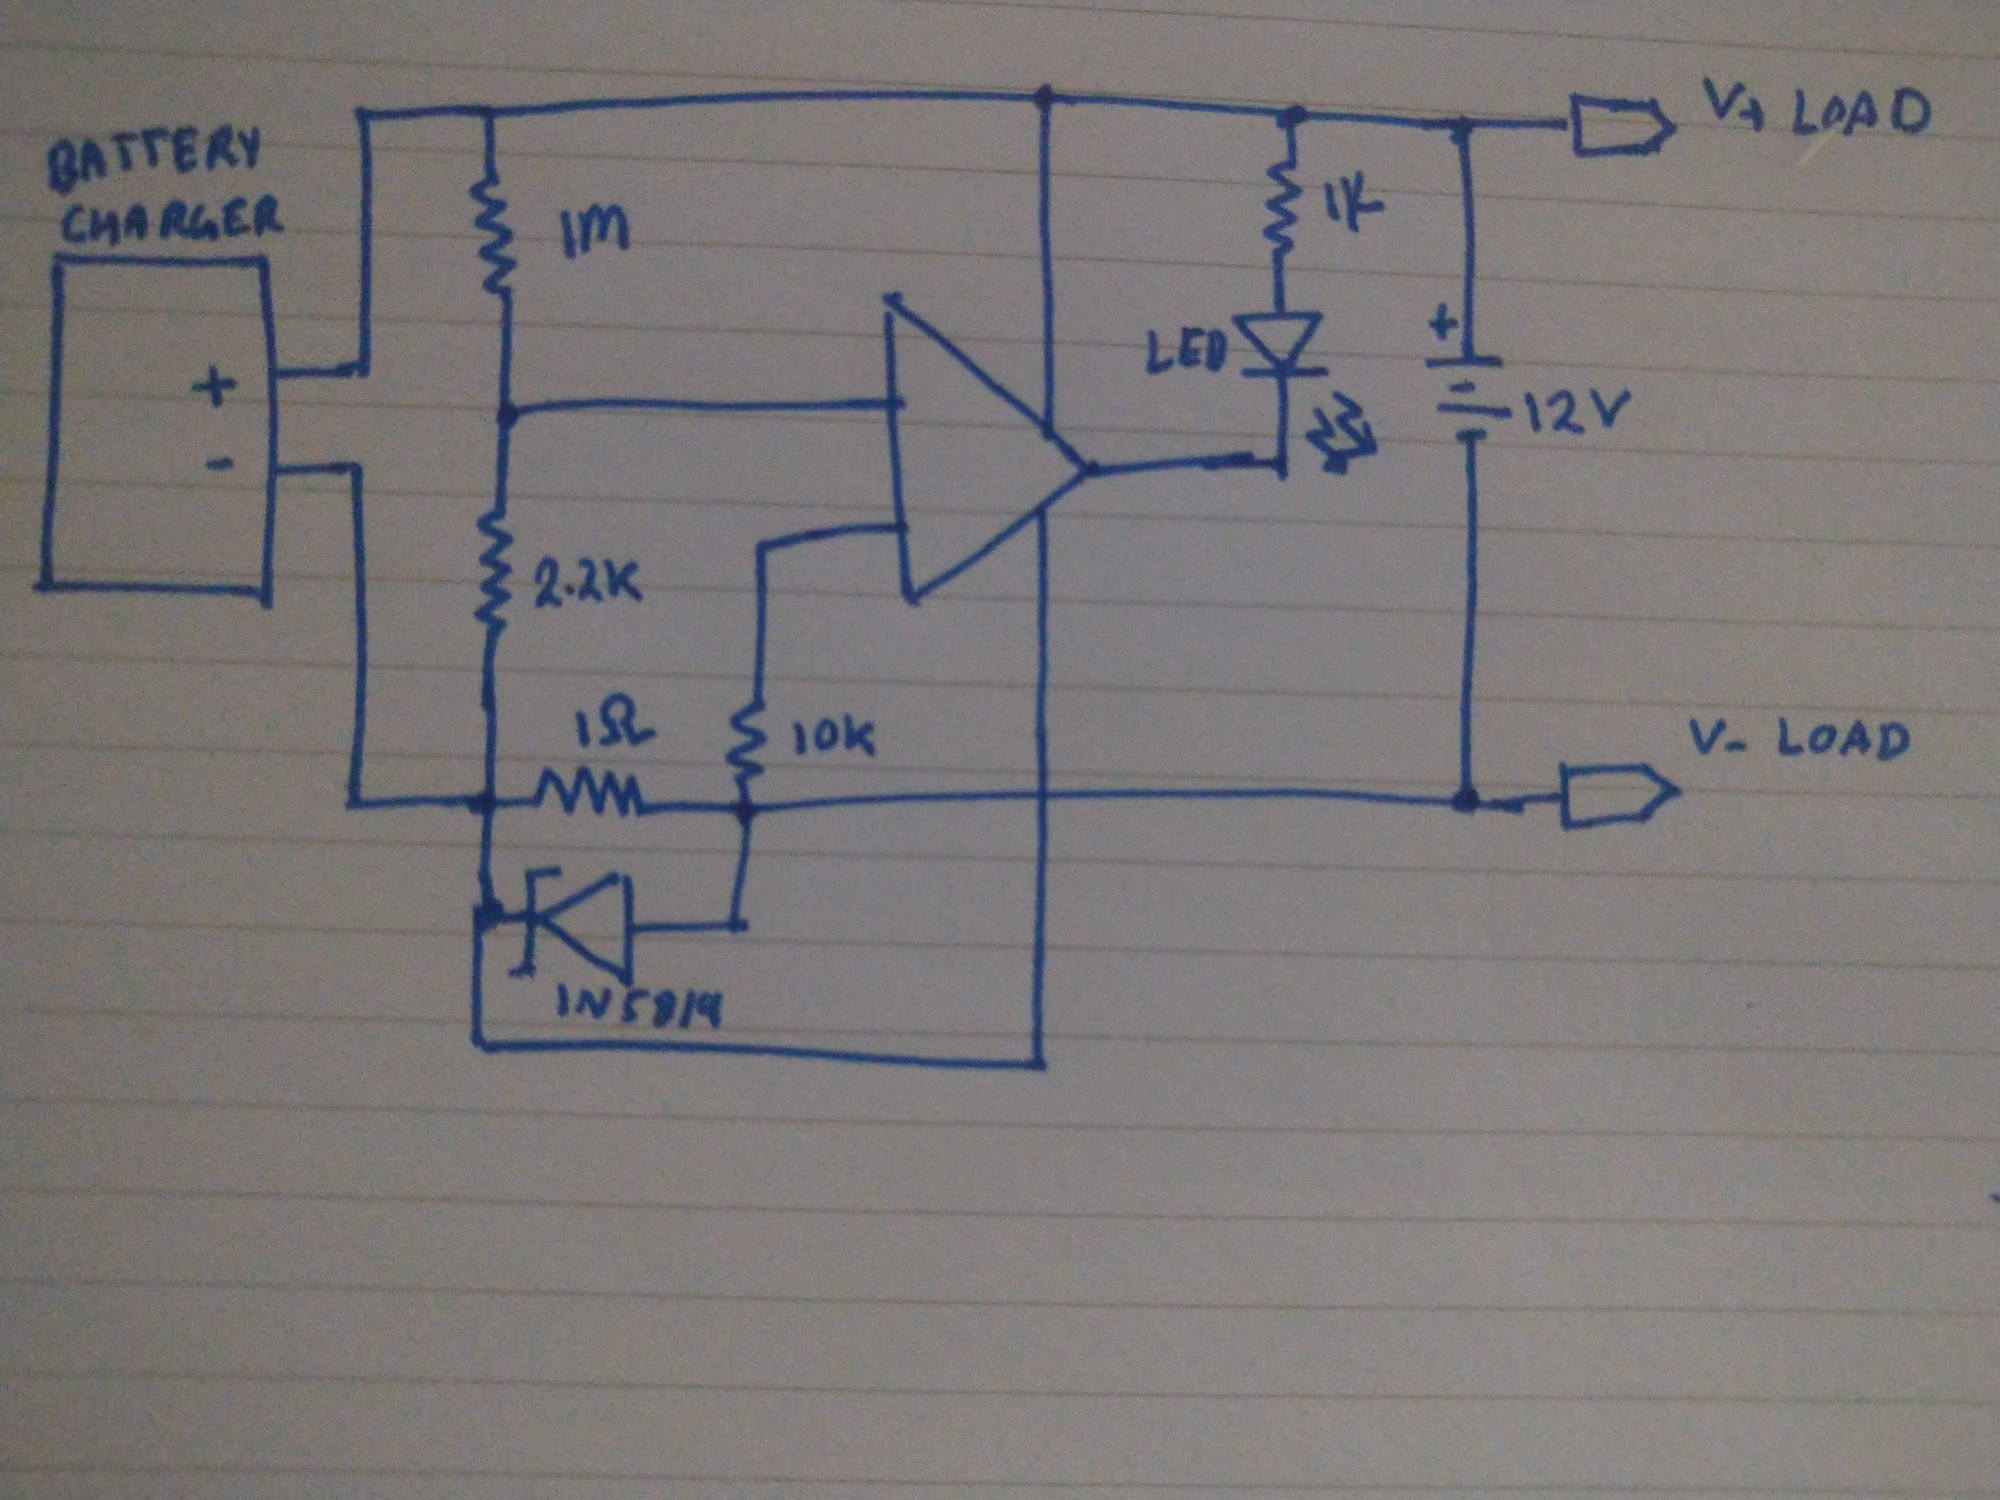crossover: (1025, 767, 1061, 811)
diode: (502, 860, 643, 986)
diode.light_emitting: (1228, 306, 1383, 477)
junction: (1435, 775, 1490, 826), (466, 889, 512, 939), (721, 789, 773, 834), (1268, 95, 1318, 139), (1436, 106, 1483, 151), (1020, 76, 1071, 118), (1017, 1043, 1065, 1086), (468, 778, 509, 827), (487, 394, 529, 436), (339, 447, 378, 492), (335, 777, 373, 821), (469, 95, 509, 136), (717, 901, 754, 944), (343, 99, 387, 136), (342, 345, 380, 386), (1258, 447, 1299, 485), (745, 526, 783, 564), (461, 1024, 498, 1062)
operational_amplifier: (874, 287, 1101, 613)
resistor: (461, 169, 524, 301), (531, 761, 652, 829), (469, 499, 521, 637), (1261, 151, 1306, 265), (721, 696, 767, 791)
terminal: (1553, 758, 1683, 838), (1561, 87, 1683, 165)
text: (1696, 69, 1939, 148), (43, 121, 261, 195), (1683, 706, 1921, 769), (58, 192, 283, 247), (548, 974, 731, 1035), (532, 548, 647, 616), (1517, 381, 1638, 444), (569, 690, 657, 752), (1139, 321, 1231, 380), (1317, 169, 1394, 235), (787, 709, 880, 763), (553, 202, 635, 262)
voltage.dc: (27, 241, 291, 611), (1417, 348, 1517, 455)
